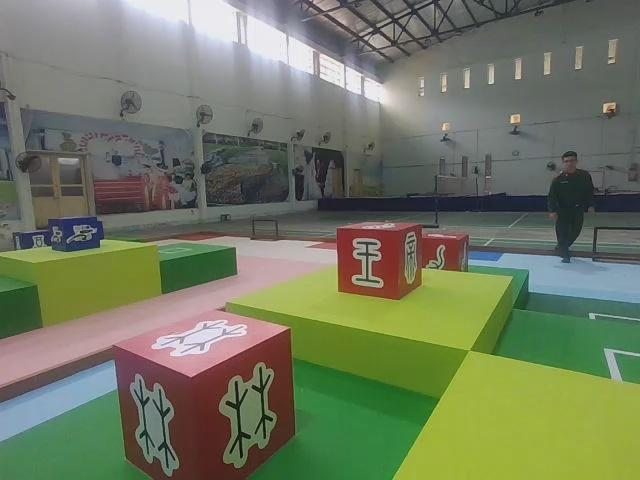R2 Fake: (333, 218, 426, 303)
R2 Real: (109, 305, 298, 480), (423, 229, 471, 275)
